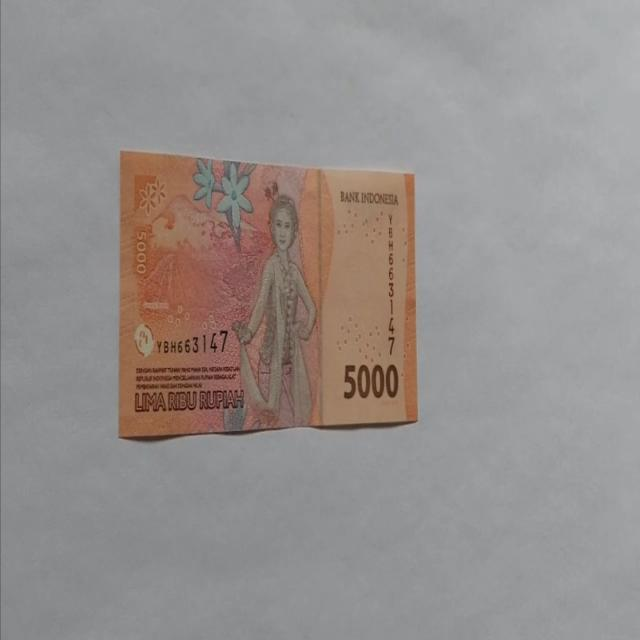lima ribu rupiah: (118, 148, 418, 440), (230, 192, 318, 428)
